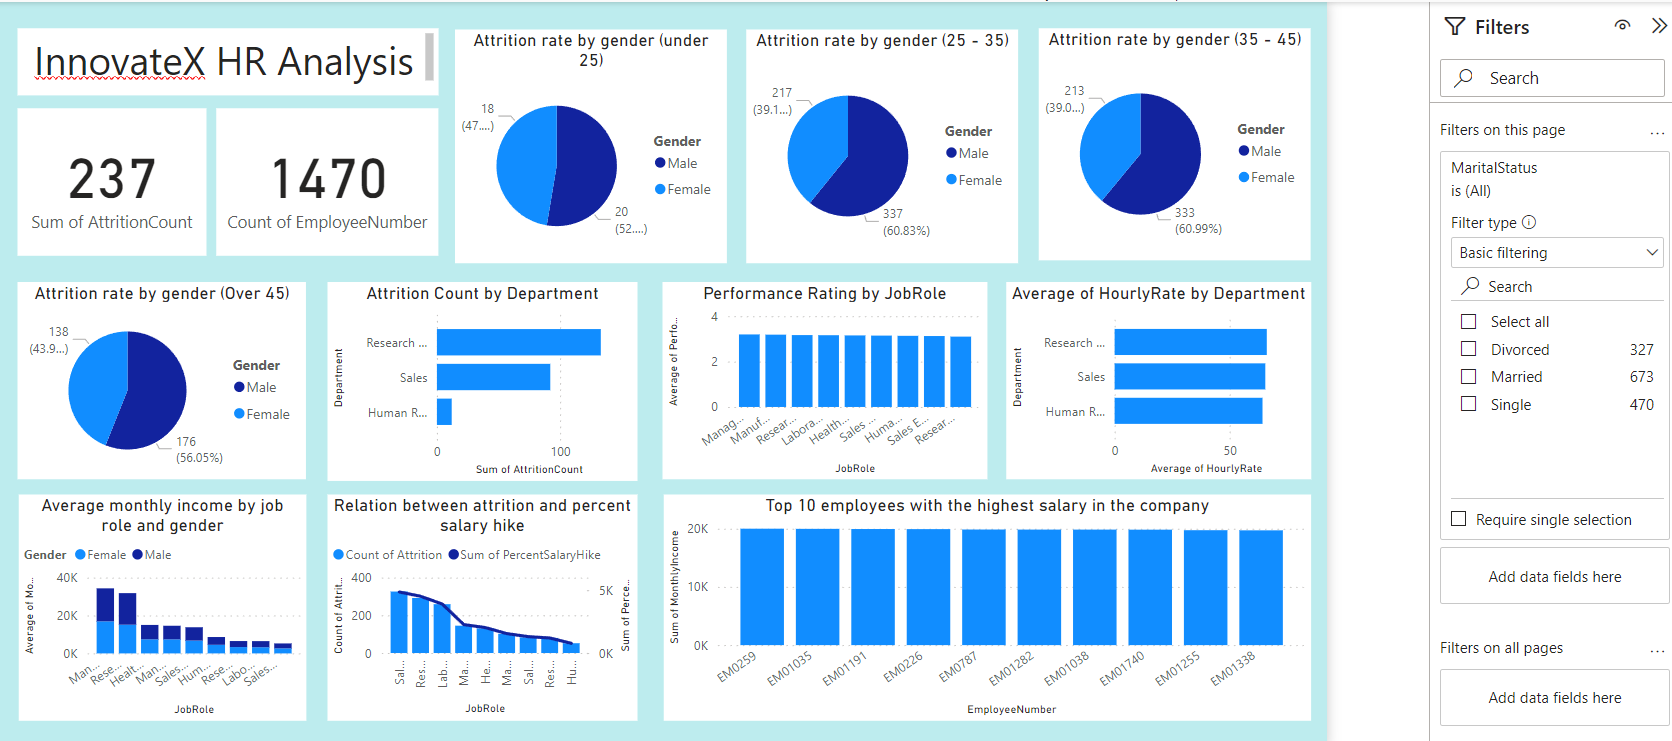

The page's visual inventory and layout, read from the dashboard file:
{"tool":"powerbi","page":{"name":"Report","canvas":[1280,720],"ordinal":0},"visuals":[{"type":"textbox","box":[16.2,12.4,406.8,77.1],"z":0},{"type":"card","fields":{"Values":["Sum(Employee_Details.AttritionCount)"]},"box":[16.6,102.3,182.5,142.4],"z":1000},{"type":"card","fields":{"Values":["Count(Employee_Details.EmployeeNumber)"]},"box":[208.7,102.5,214.7,142.4],"z":2000},{"type":"pieChart","title":"Attrition rate by gender (under 25)","fields":{"Category":["Employee_Details.Gender"],"Y":["Sum(Employee_Details.AttritionCount)"]},"box":[439.7,26.3,262.7,225.4],"z":3000},{"type":"pieChart","title":"Attrition rate by gender (25 - 35)","fields":{"Y":["CountNonNull(Employee_Details.Attrition)"],"Category":["Employee_Details.Gender"]},"box":[720.3,26.3,262.7,225.4],"z":4000},{"type":"pieChart","title":"Attrition rate by gender (35 - 45)","fields":{"Y":["CountNonNull(Employee_Details.Attrition)"],"Category":["Employee_Details.Gender"]},"box":[1002.4,24.9,262.7,224],"z":5000},{"type":"pieChart","title":"Attrition rate by gender (Over 45)","fields":{"Y":["CountNonNull(Employee_Details.Attrition)"],"Category":["Employee_Details.Gender"]},"box":[16.9,270.2,278.7,190.6],"z":6000},{"type":"barChart","title":"Attrition Count by Department","fields":{"Y":["Sum(Employee_Details.AttritionCount)"],"Category":["Employee_Details.Department"]},"box":[316.1,270.2,299.2,191.8],"z":7000},{"type":"pivotTable","title":"Performance Rating by JobRole","fields":{"Rows":["Employee_Details.JobRole"],"Columns":["Employee_Details.PerformanceRating"],"Values":["Sum(Employee_Details.AttritionCount)"]},"box":[639.4,270.2,313.7,190.6],"z":8000},{"type":"barChart","fields":{"Category":["Employee_Details.Department"],"Y":["Avg(Employee_Details.HourlyRate)"]},"box":[971.2,270.2,294.4,190.6],"z":9000},{"type":"columnChart","title":"Average monthly income by job role and gender","fields":{"Y":["Avg(Employee_Details.MonthlyIncome)"],"Category":["Employee_Details.JobRole"],"Series":["Employee_Details.Gender"]},"box":[18.1,475.3,277.5,218.4],"z":10000},{"type":"areaChart","title":"Relation between attrition and percent salary hike","fields":{"Category":["Employee_Details.Attrition"],"Y":["Avg(Employee_Details.PercentSalaryHike)"]},"box":[316,475,299,218],"z":11000},{"type":"columnChart","title":"Top 10 employees with the highest salary in the company","fields":{"Y":["Sum(Employee_Details.MonthlyIncome)"],"Category":["Employee_Details.EmployeeNumber"]},"box":[640.6,475.3,624.9,218.4],"z":12000}]}

Visuals, with their boxes on the page's 1280x720 design canvas (x1, y1, x2, y2). These are canvas units, not pixel positions in the 1672x741 screenshot, which may show the page scaled, cropped or inside an application window:
textbox: 16, 12, 423, 90
card - Sum(Employee_Details.AttritionCount): 17, 102, 199, 245
card - Count(Employee_Details.EmployeeNumber): 209, 102, 423, 245
"Attrition rate by gender (under 25)" pieChart: 440, 26, 702, 252
"Attrition rate by gender (25 - 35)" pieChart: 720, 26, 983, 252
"Attrition rate by gender (35 - 45)" pieChart: 1002, 25, 1265, 249
"Attrition rate by gender (Over 45)" pieChart: 17, 270, 296, 461
"Attrition Count by Department" barChart: 316, 270, 615, 462
"Performance Rating by JobRole" pivotTable: 639, 270, 953, 461
barChart - Employee_Details.Department x Avg(Employee_Details.HourlyRate): 971, 270, 1266, 461
"Average monthly income by job role and gender" columnChart: 18, 475, 296, 694
"Relation between attrition and percent salary hike" areaChart: 316, 475, 615, 693
"Top 10 employees with the highest salary in the company" columnChart: 641, 475, 1266, 694
